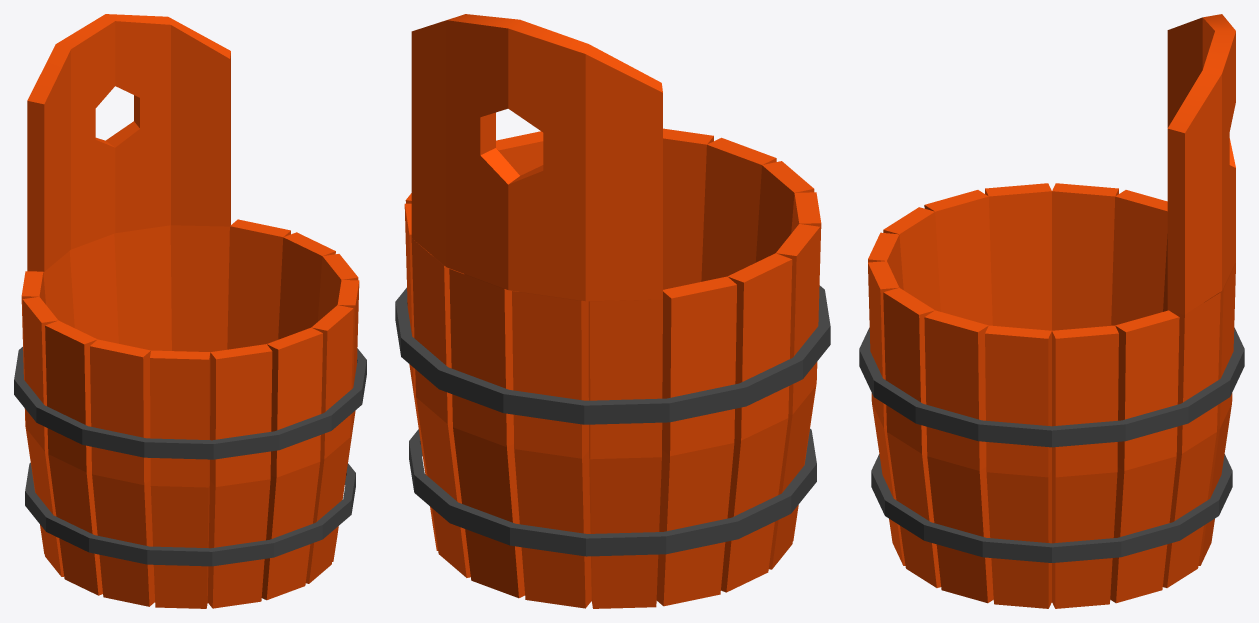
The model's file is bucket_3.FBX.
3 renders of one model, left to right at view 1: azimuth 30°, elevation 25°; view 2: azimuth 150°, elevation 25°; view 3: azimuth 270°, elevation 25°, orthographic. The views are drawn at different scales.
Visible parts, largest first — view 1: bucket_3; view 2: bucket_3; view 3: bucket_3.
Part boxes in pixels (x1=…): bucket_3: x1=14, y1=14, x2=366, y2=608; bucket_3: x1=395, y1=14, x2=830, y2=608; bucket_3: x1=859, y1=14, x2=1244, y2=608.
Size of the model in its own units: 0.488 by 0.7143 by 0.488.
Materials: 1 (1 with a texture image).
